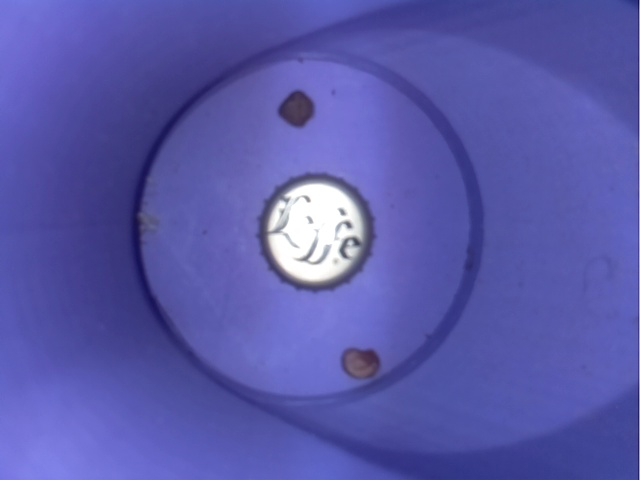capsule: (250, 162, 385, 296)
croquette: (333, 333, 389, 388), (273, 84, 324, 134)
